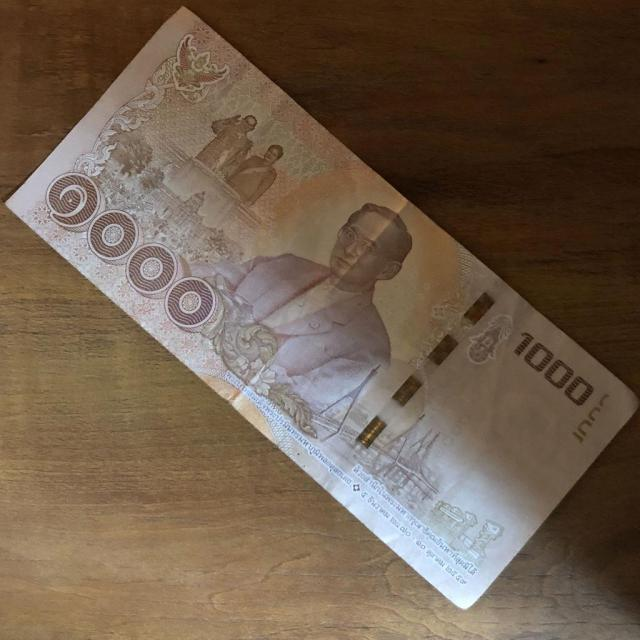THAI1000: (6, 9, 639, 611)
